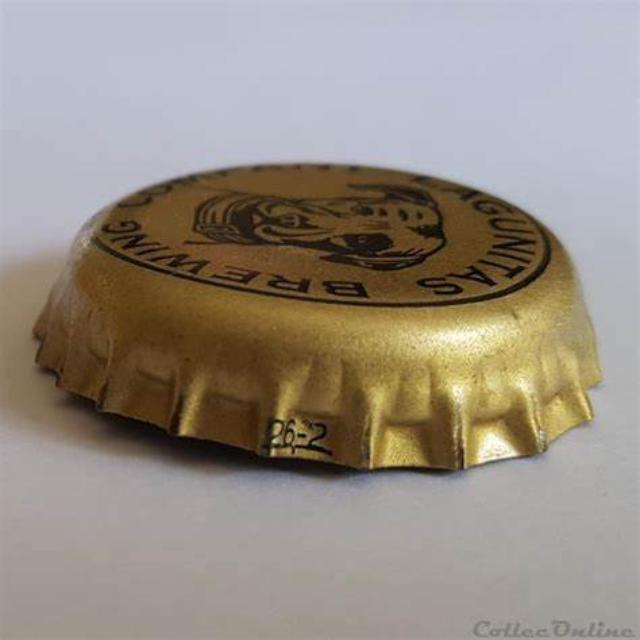Metal: (28, 152, 602, 476)
